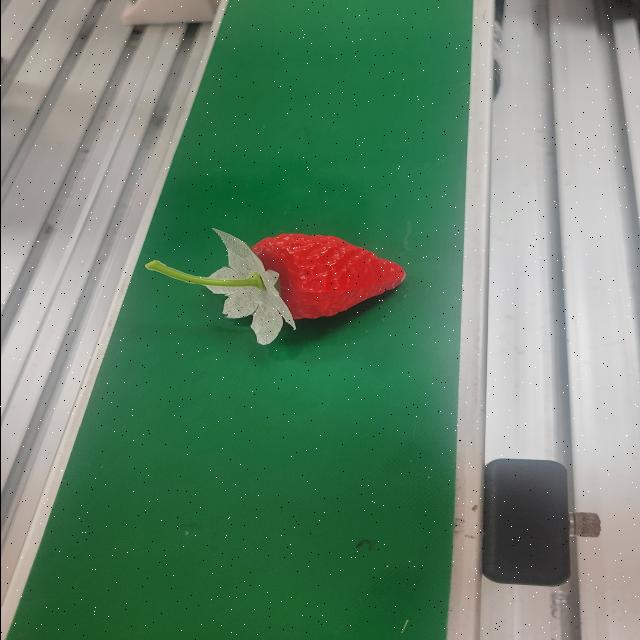Small Ripe Strawberry: (218, 232, 408, 339)
